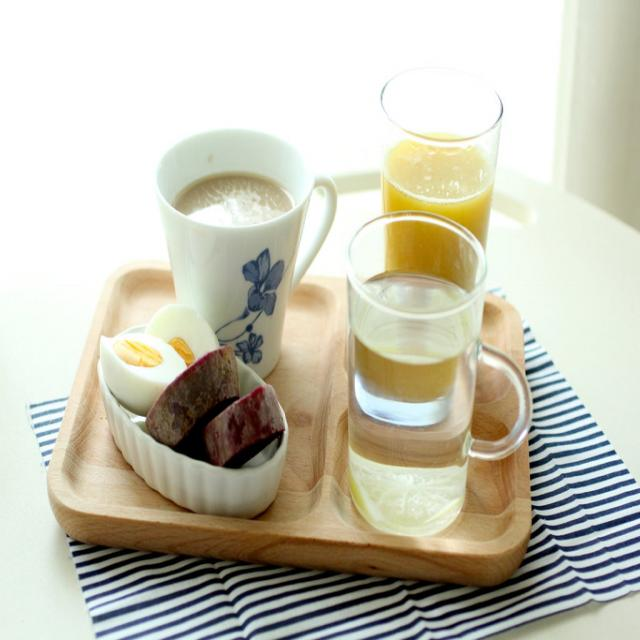Tea: (174, 171, 296, 227)
